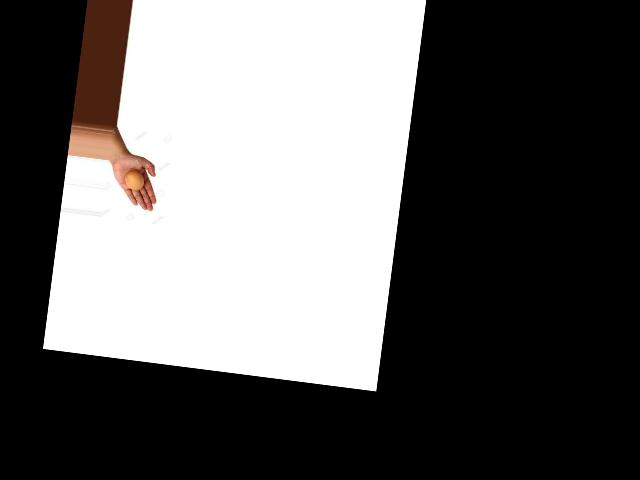egg: (123, 168, 145, 190)
